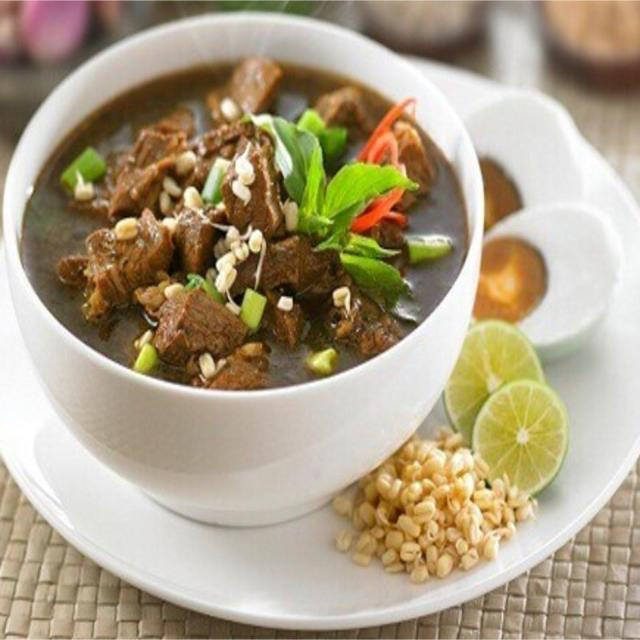Rawon: (27, 52, 471, 396)
